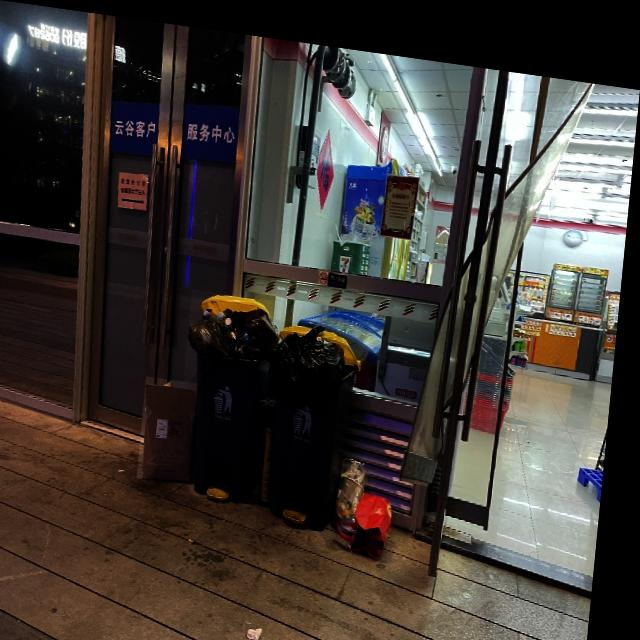garbage: (336, 443, 405, 549), (146, 371, 205, 479)
overflow: (182, 283, 287, 496), (266, 311, 369, 523)
